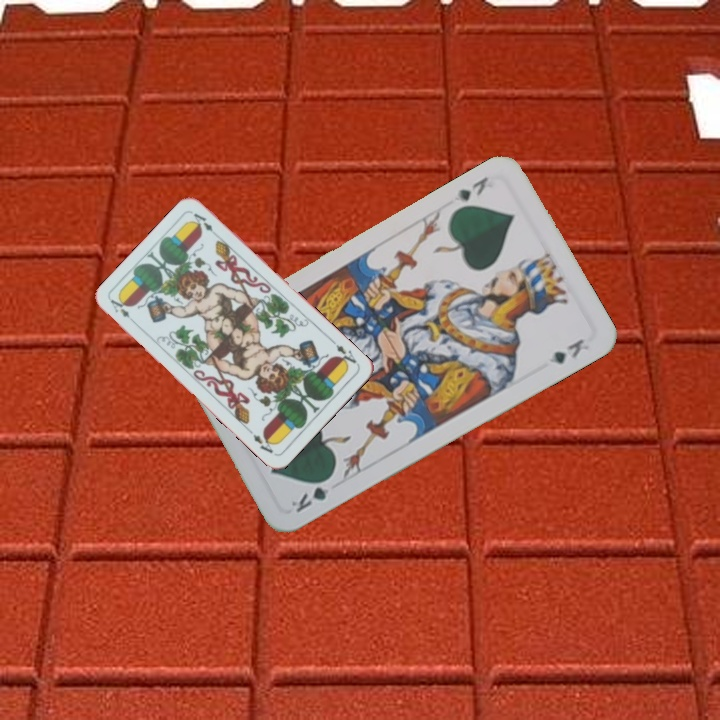EA: (332, 340, 361, 369), (106, 294, 132, 320)
GK: (287, 472, 336, 516), (450, 172, 491, 205)
